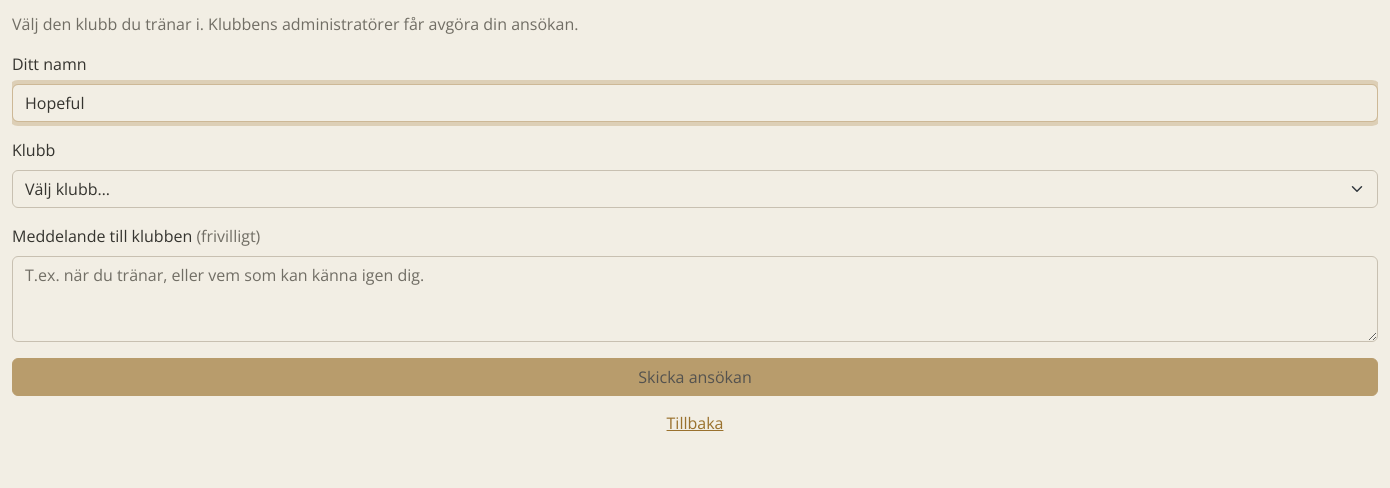
RegisterBranch › says so when the address already has an account
Select "Karlstad" in the dropdown labelled "Klubb" at (695, 189), box [12,170,1378,208]
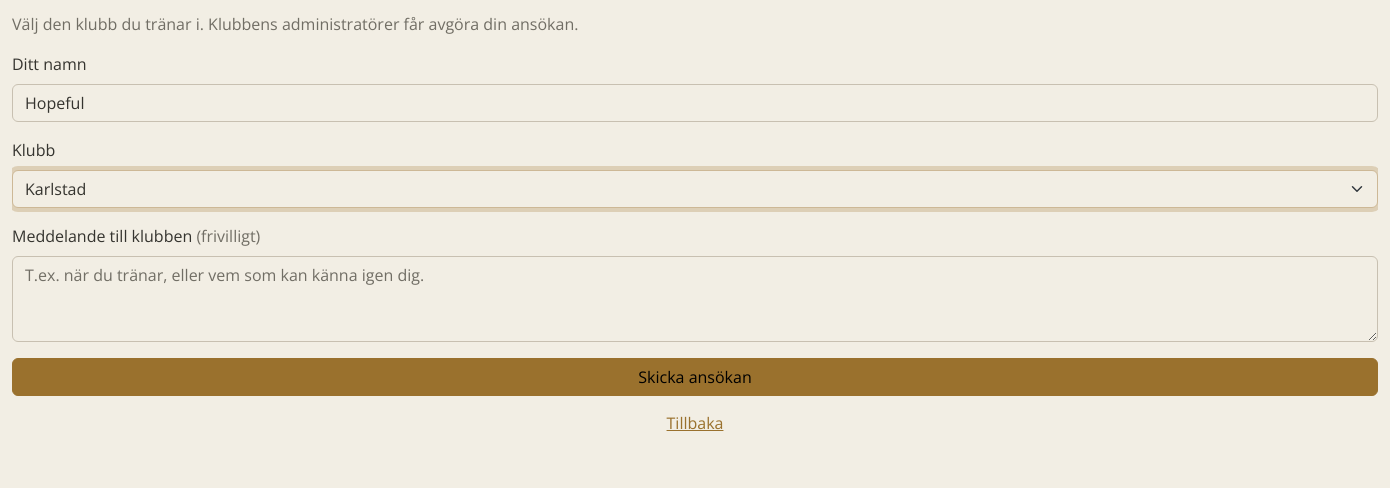
Click the button "Skicka ansökan" at (695, 377), box [12,358,1378,396]
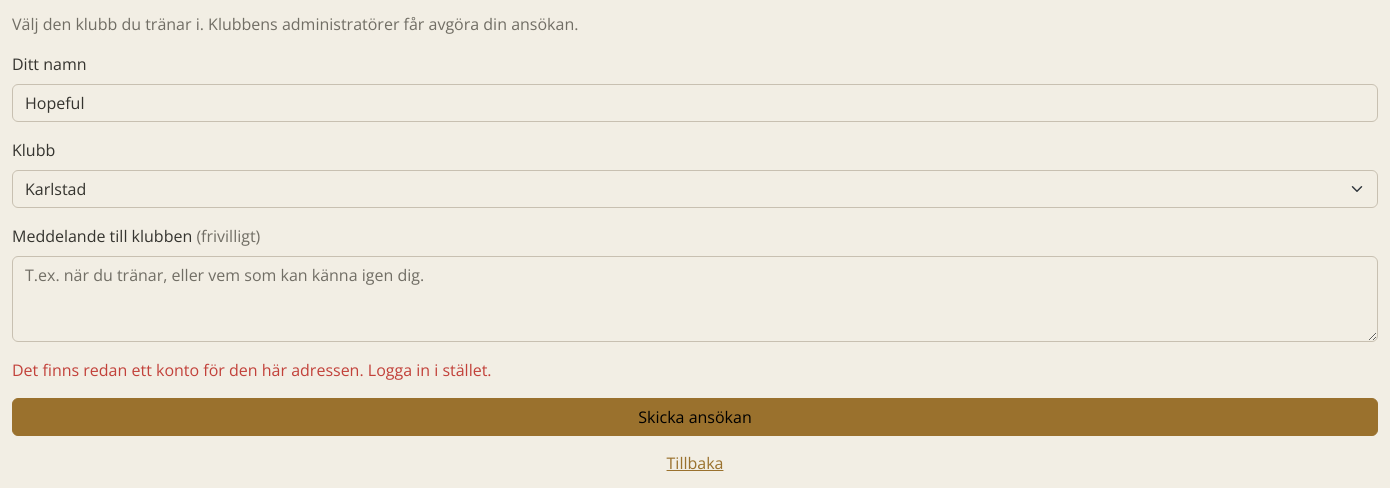
Expected: the text "Logga in i stället" is shown, [12,359,492,381]
